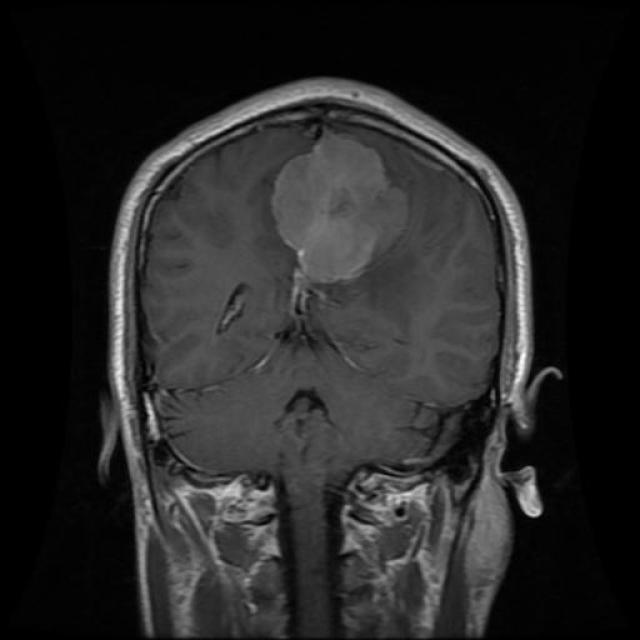meningioma: (270, 135, 409, 280)
